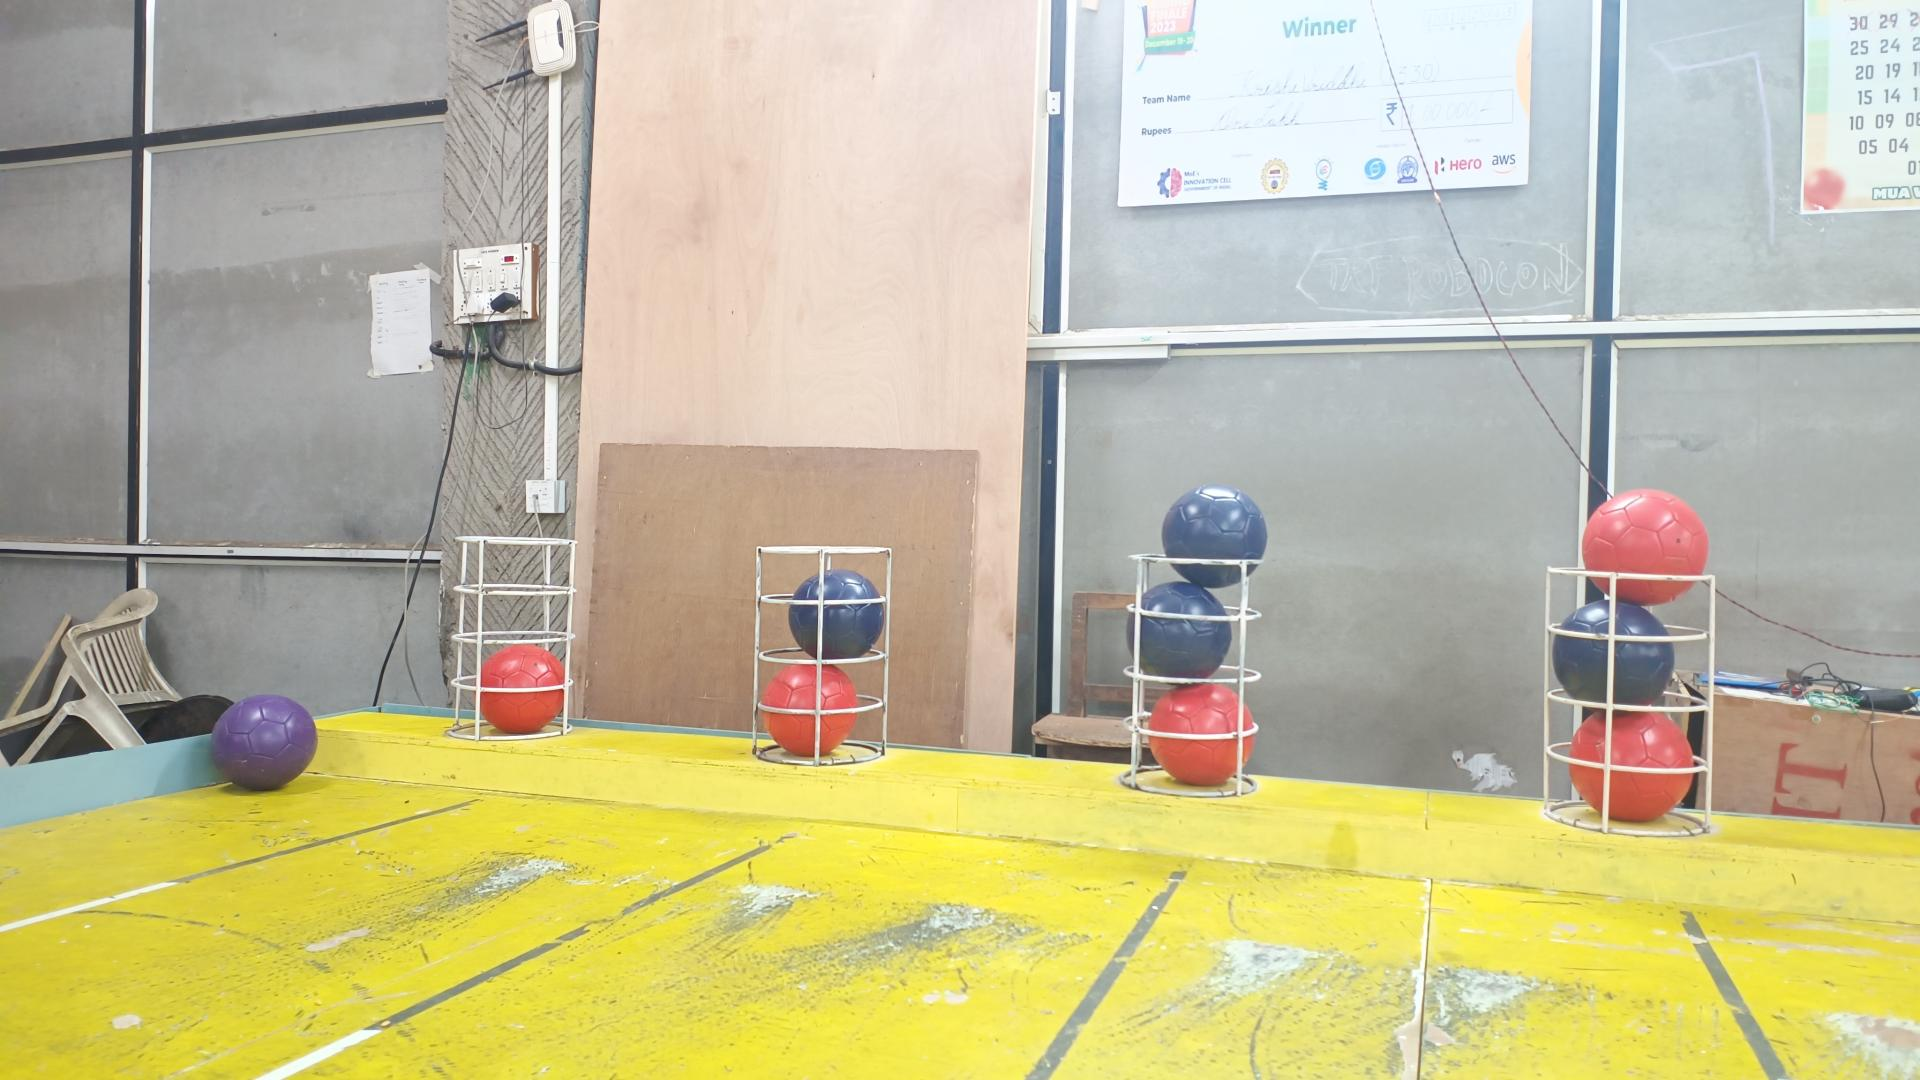dhoka: (1552, 603, 1676, 708), (1163, 483, 1269, 588), (1124, 579, 1233, 680), (789, 568, 886, 662)
laale: (1580, 488, 1708, 605), (1572, 709, 1700, 822), (1146, 683, 1255, 785), (760, 662, 857, 760), (477, 644, 563, 733)
